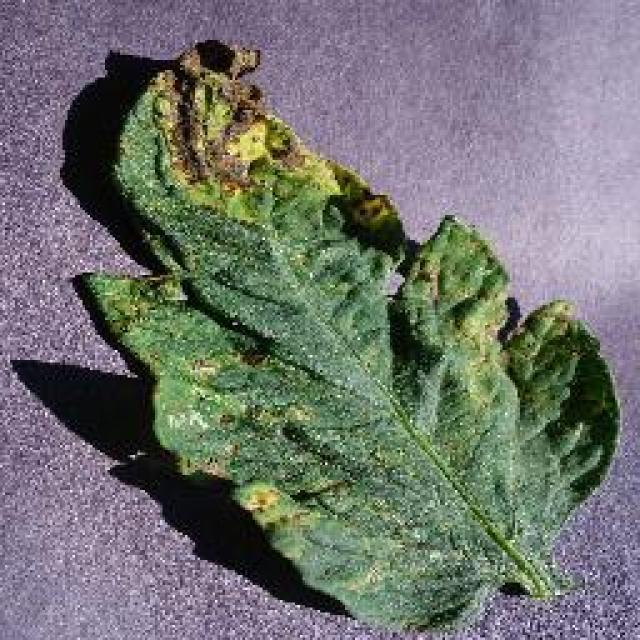Tomato target spot leaf: (71, 38, 621, 632)
